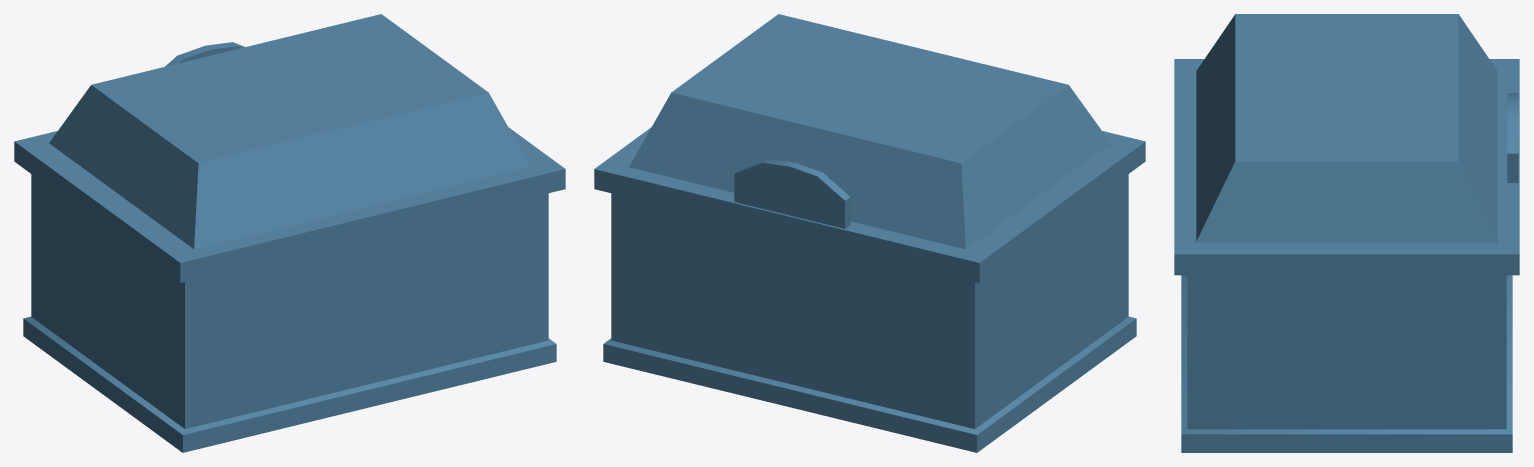
The model's file is Cowboy_b01.fbx.
3 views of the same model, side by side, from view 1: azimuth 30°, elevation 25°; view 2: azimuth 150°, elevation 25°; view 3: azimuth 270°, elevation 25° (orthographic). The views are drawn at different scales.
Visible parts, largest first — view 1: Cowboy_b01; view 2: Cowboy_b01; view 3: Cowboy_b01.
Boxes of the visible parts, x1=… form: Cowboy_b01: x1=14, y1=14, x2=565, y2=452; Cowboy_b01: x1=594, y1=14, x2=1145, y2=452; Cowboy_b01: x1=1174, y1=14, x2=1519, y2=452.
Bounding box in the file's own units: 235 × 152 × 176.
